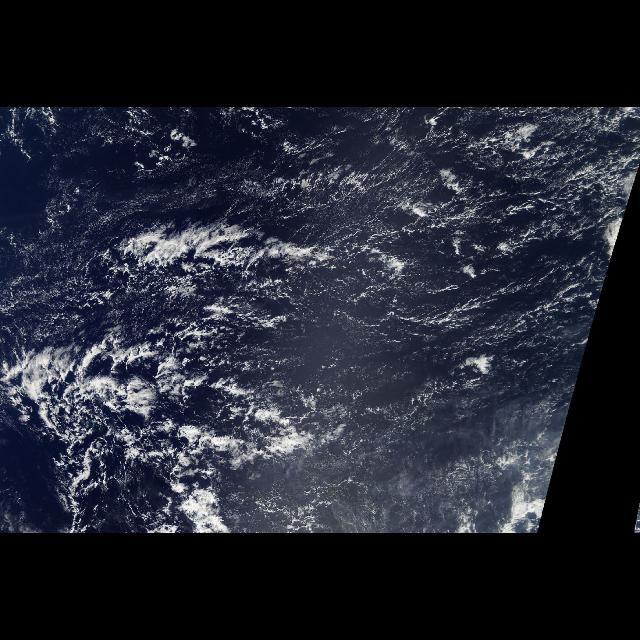Fish: (6, 119, 244, 534)
Gravel: (1, 108, 636, 526)
